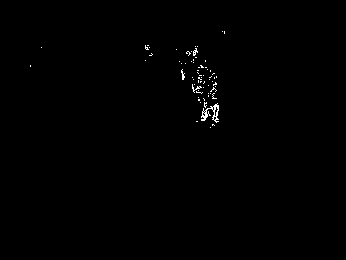person: (190, 61, 221, 125)
